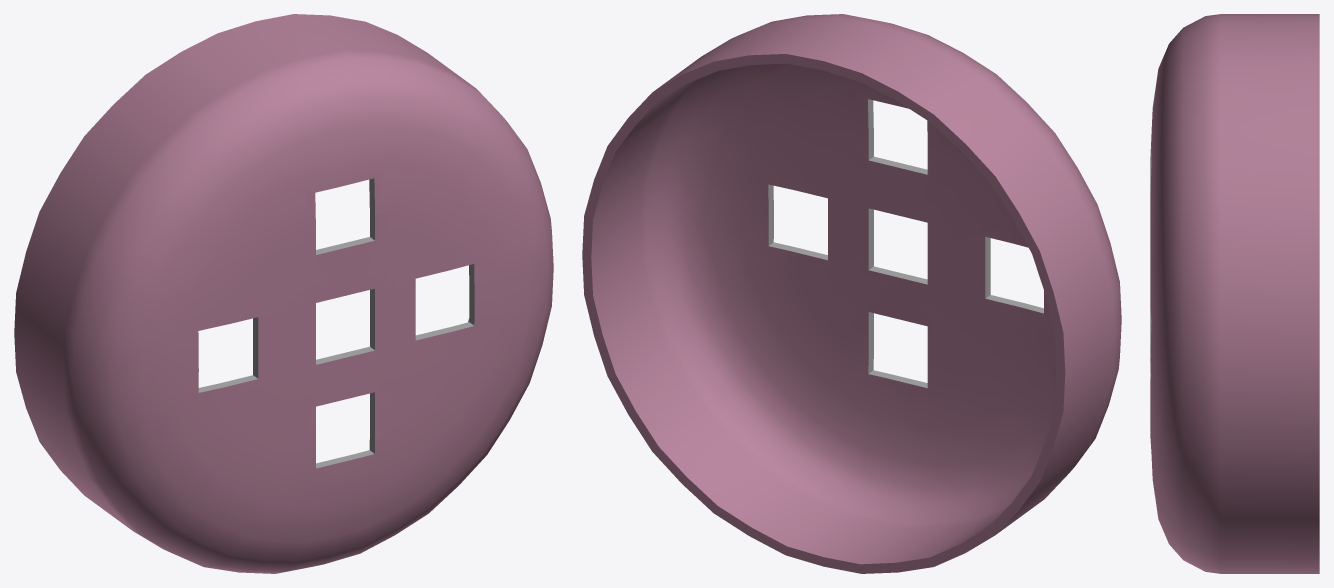
Rendered from ele_squ.fbx.
3 views of the same model, side by side, from view 1: azimuth 30°, elevation 25°; view 2: azimuth 150°, elevation 25°; view 3: azimuth 270°, elevation 25° (orthographic).
Parts seen in each view (by area): view 1: polySurface52; view 2: polySurface52; view 3: polySurface52.
Part boxes in pixels (left/top/right/bottom): polySurface52: left=14, top=14, right=553, bottom=573; polySurface52: left=582, top=14, right=1121, bottom=573; polySurface52: left=1150, top=14, right=1319, bottom=573.
Size of the model in its own units: 60.28 by 60.28 by 18.31.
